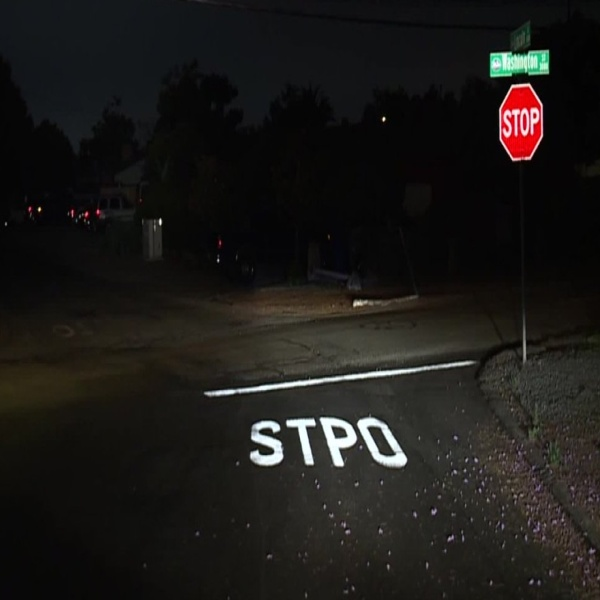stop: (495, 80, 545, 166)
